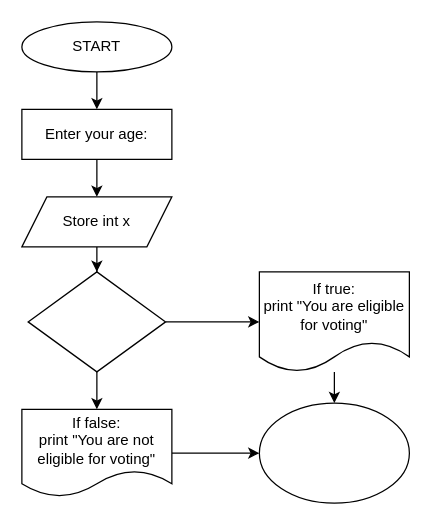
Image size: 431x525. Some labels were removed from this diagram. Each missing label, with the centre of its shape:
Is x>=18?: point 96,321
STOP: point 333,452
